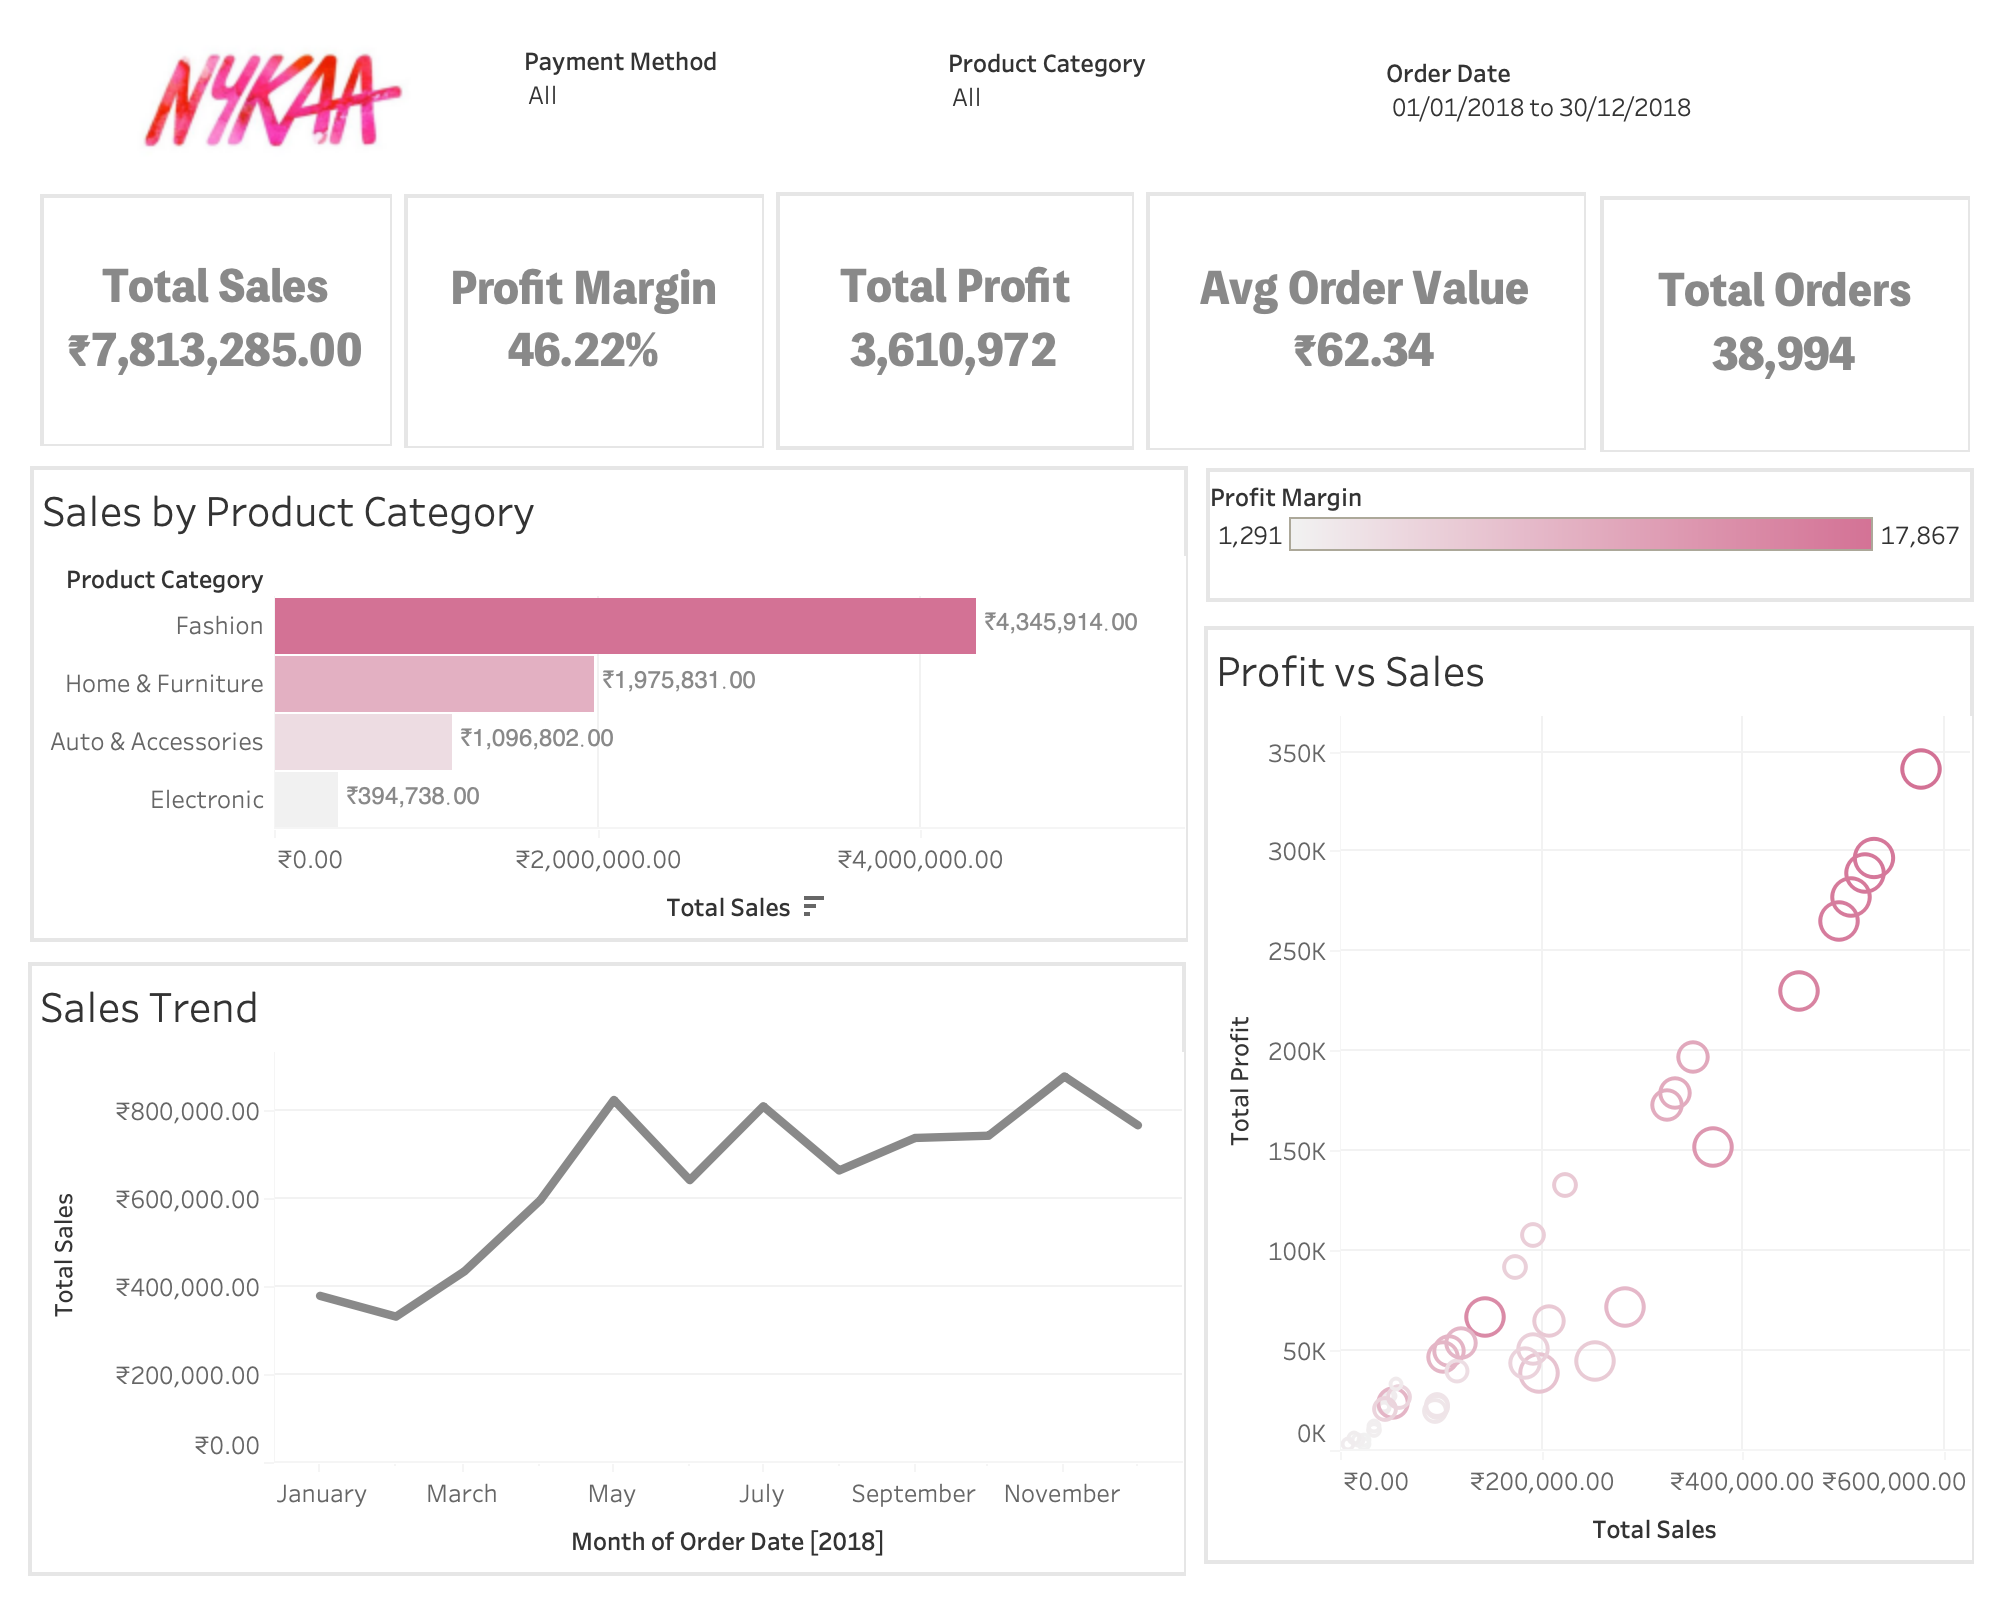

The page's visual inventory and layout, read from the dashboard file:
{"tool":"tableau","page":{"name":"Dashboard 1","canvas":[1000,800],"ordinal":0},"visuals":[{"type":"image","param":"/Users/ishitanadar/Downloads/ .jpg","box":[18,11,239,79]},{"type":"filter","title":"Sheet 8","param":"[federated.0115nwj1jb8lq31cy44iq15bpglm].[none:payment_method:nk]","box":[262,21,200,58]},{"type":"filter","title":"Sheet 6","param":"[federated.0115nwj1jb8lq31cy44iq15bpglm].[none:product_category:nk]","box":[474,22,212,66]},{"type":"filter","title":"Sheet 8","param":"[federated.0115nwj1jb8lq31cy44iq15bpglm].[none:order_date:qk]","box":[693,27,287,63]},{"type":"worksheet","title":"Sheet 5","mark":"Automatic","box":[388,96,179,129]},{"type":"worksheet","title":"Sheet 3","mark":"Text","box":[573,96,220,129]},{"type":"worksheet","title":"Sheet 1","mark":"Automatic","box":[20,97,176,126]},{"type":"worksheet","title":"Sheet 2","mark":"Text","box":[202,97,180,127]},{"type":"worksheet","title":"Sheet 4","mark":"Automatic","box":[800,98,185,128]},{"type":"worksheet","title":"Sheet 7","mark":"Bar","rows":["product_category"],"cols":["Calculation_0098373079027712"],"box":[15,233,579,238]},{"type":"legend","title":"Sheet 7","param":"[federated.0115nwj1jb8lq31cy44iq15bpglm].[sum:profit_margin:qk]","box":[603,234,384,67]},{"type":"worksheet","title":"Sheet 8","mark":"Automatic","rows":["Calculation_0098373079572481"],"cols":["Calculation_0098373079027712"],"box":[602,313,385,469]},{"type":"worksheet","title":"Sheet 6","mark":"Automatic","rows":["Calculation_0098373079027712"],"cols":["order_date"],"box":[14,481,579,307]}]}

Visuals, with their boxes in screenshot pixels (x1, y1, x2, y2), scaled from the page's 1000x800 canvas onto the 2000x1600 screenshot:
image: {"x1": 36, "y1": 22, "x2": 514, "y2": 180}
"Sheet 8" filter: {"x1": 524, "y1": 42, "x2": 924, "y2": 158}
"Sheet 6" filter: {"x1": 948, "y1": 44, "x2": 1372, "y2": 176}
"Sheet 8" filter: {"x1": 1386, "y1": 54, "x2": 1960, "y2": 180}
"Sheet 5" worksheet: {"x1": 776, "y1": 192, "x2": 1134, "y2": 450}
"Sheet 3" worksheet (Text marks): {"x1": 1146, "y1": 192, "x2": 1586, "y2": 450}
"Sheet 1" worksheet: {"x1": 40, "y1": 194, "x2": 392, "y2": 446}
"Sheet 2" worksheet (Text marks): {"x1": 404, "y1": 194, "x2": 764, "y2": 448}
"Sheet 4" worksheet: {"x1": 1600, "y1": 196, "x2": 1970, "y2": 452}
"Sheet 7" worksheet (Bar marks): {"x1": 30, "y1": 466, "x2": 1188, "y2": 942}
"Sheet 7" legend: {"x1": 1206, "y1": 468, "x2": 1974, "y2": 602}
"Sheet 8" worksheet: {"x1": 1204, "y1": 626, "x2": 1974, "y2": 1564}
"Sheet 6" worksheet: {"x1": 28, "y1": 962, "x2": 1186, "y2": 1576}
